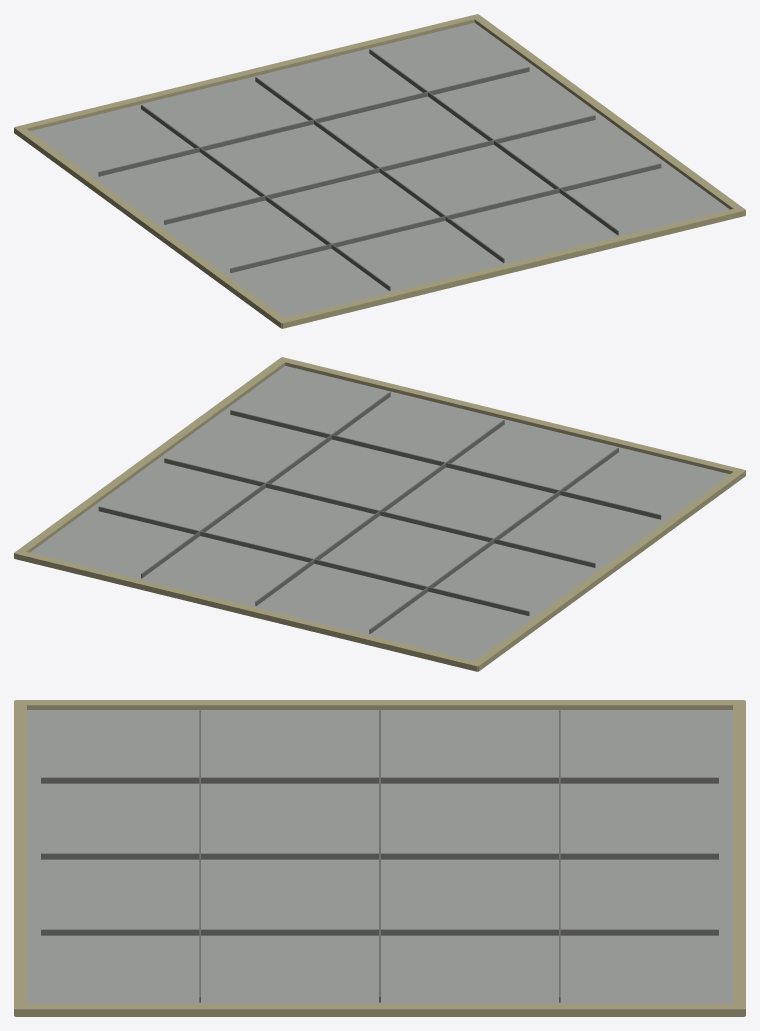
File: base_pad_14x14.glb
3 renders of one model, top to bottom at view 1: azimuth 30°, elevation 25°; view 2: azimuth 150°, elevation 25°; view 3: azimuth 270°, elevation 25°, orthographic. The views are drawn at different scales.
Parts seen in each view (by area): view 1: base_pad_14x14_0, base_pad_14x14_4, base_pad_14x14_3, base_pad_14x14_1, base_pad_14x14_2, base_pad_14x14_10, base_pad_14x14_9, base_pad_14x14_8, base_pad_14x14_5, base_pad_14x14_6, base_pad_14x14_7; view 2: base_pad_14x14_0, base_pad_14x14_3, base_pad_14x14_4, base_pad_14x14_1, base_pad_14x14_2, base_pad_14x14_8, base_pad_14x14_9, base_pad_14x14_10, base_pad_14x14_5, base_pad_14x14_6, base_pad_14x14_7; view 3: base_pad_14x14_0, base_pad_14x14_2, base_pad_14x14_1, base_pad_14x14_5, base_pad_14x14_7, base_pad_14x14_6, base_pad_14x14_4, base_pad_14x14_3, base_pad_14x14_8, base_pad_14x14_9, base_pad_14x14_10.
Boxes of the visible parts, bbox=[...] form: base_pad_14x14_0: bbox=[30, 22, 729, 317]; base_pad_14x14_4: bbox=[279, 207, 745, 328]; base_pad_14x14_3: bbox=[14, 14, 481, 130]; base_pad_14x14_1: bbox=[14, 126, 288, 328]; base_pad_14x14_2: bbox=[471, 14, 745, 214]; base_pad_14x14_10: bbox=[230, 163, 661, 272]; base_pad_14x14_9: bbox=[164, 115, 595, 224]; base_pad_14x14_8: bbox=[98, 67, 529, 176]; base_pad_14x14_5: bbox=[141, 105, 390, 290]; base_pad_14x14_6: bbox=[255, 77, 504, 262]; base_pad_14x14_7: bbox=[369, 49, 618, 235]; base_pad_14x14_0: bbox=[30, 365, 729, 660]; base_pad_14x14_3: bbox=[14, 550, 480, 671]; base_pad_14x14_4: bbox=[278, 357, 745, 473]; base_pad_14x14_1: bbox=[471, 469, 745, 671]; base_pad_14x14_2: bbox=[14, 357, 288, 557]; base_pad_14x14_8: bbox=[98, 506, 529, 615]; base_pad_14x14_9: bbox=[164, 458, 595, 567]; base_pad_14x14_10: bbox=[230, 410, 661, 519]; base_pad_14x14_5: bbox=[369, 448, 618, 633]; base_pad_14x14_6: bbox=[255, 420, 504, 605]; base_pad_14x14_7: bbox=[141, 392, 390, 578]; base_pad_14x14_0: bbox=[27, 710, 732, 1003]; base_pad_14x14_2: bbox=[15, 1004, 744, 1016]; base_pad_14x14_1: bbox=[15, 700, 744, 709]; base_pad_14x14_5: bbox=[41, 777, 718, 783]; base_pad_14x14_7: bbox=[41, 929, 718, 935]; base_pad_14x14_6: bbox=[41, 853, 718, 859]; base_pad_14x14_4: bbox=[14, 700, 26, 1016]; base_pad_14x14_3: bbox=[733, 700, 745, 1016]; base_pad_14x14_8: bbox=[559, 710, 560, 1002]; base_pad_14x14_9: bbox=[379, 710, 380, 1002]; base_pad_14x14_10: bbox=[199, 710, 200, 1002].
Size of the model in its own units: 14.25 by 0.245 by 14.25.
